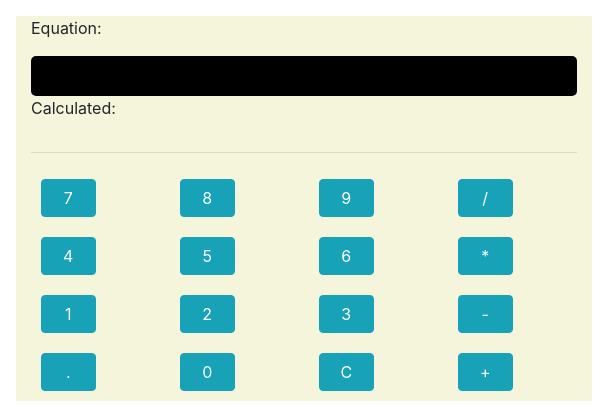
Test: Calc buttons add to total
This screenshot has width=609, height=418.
Click the button "8" at (207, 198), box [180,179,234,217]
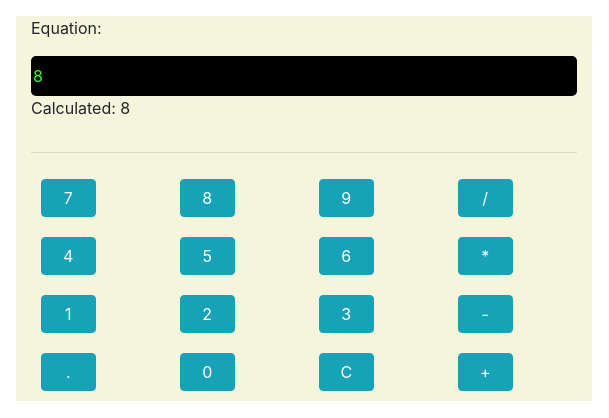
Click the button "+" at (485, 372), box [458,353,512,391]
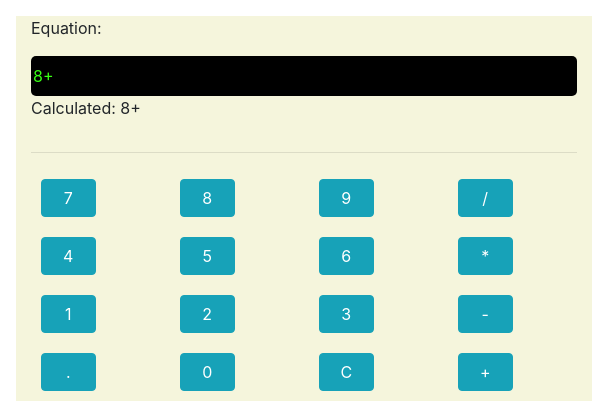
Click the button "4" at (68, 256), box [41,237,96,275]
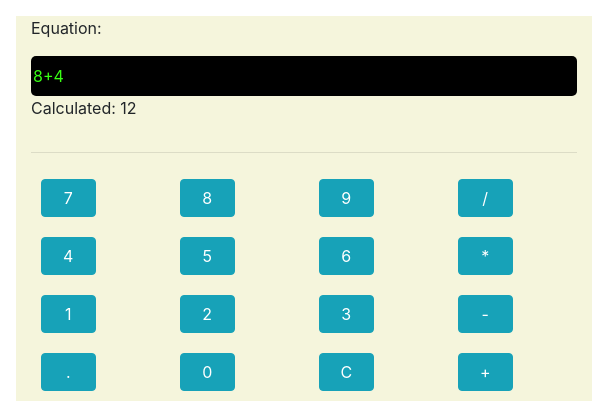
Expected: the element with test id "calculation" shows "12", [120,98,137,118]
